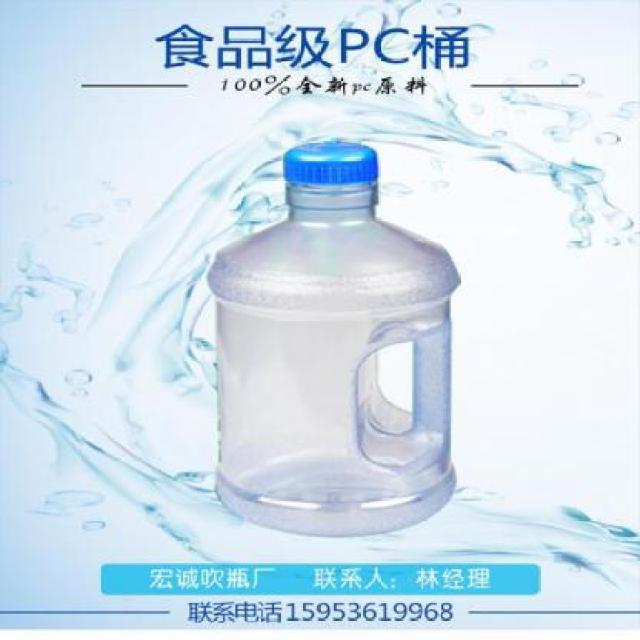coolerbottle: (208, 137, 464, 536)
